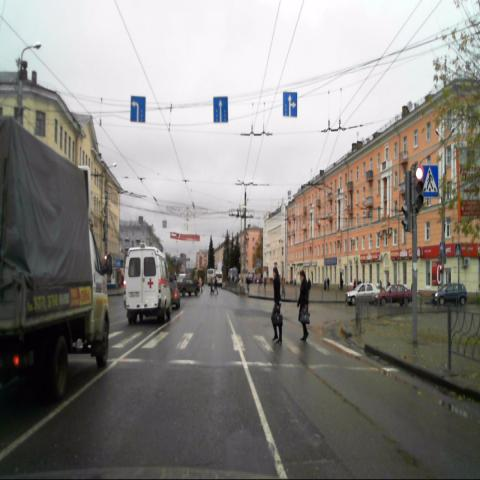5_15_2: (214, 96, 228, 123), (130, 97, 145, 122), (283, 92, 297, 117)
5_19_1: (421, 164, 438, 196)
